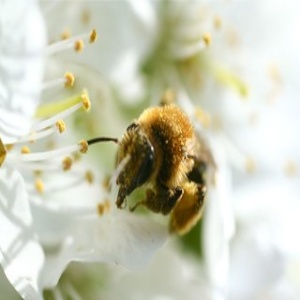bee: (89, 100, 211, 242)
